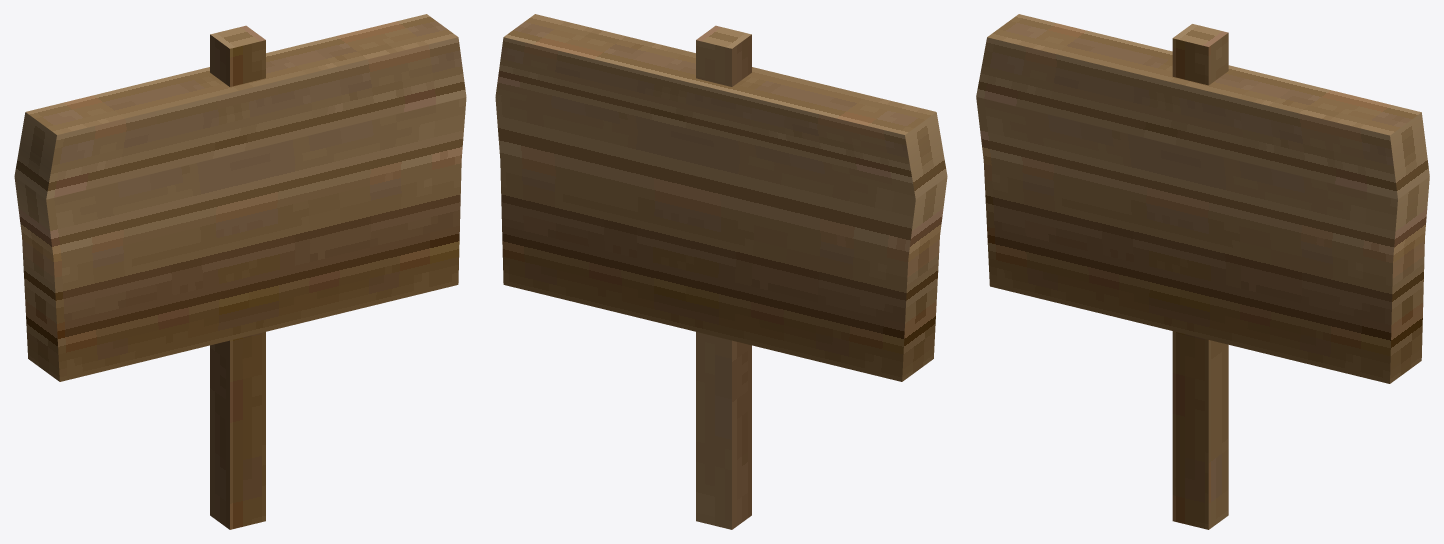
Rendered from com_bm_murekanban.obj.
3 renders of one model, left to right at view 1: azimuth 30°, elevation 25°; view 2: azimuth 150°, elevation 25°; view 3: azimuth 330°, elevation 25°, orthographic.
Visible parts, largest first — view 1: vsn_mesh_0_com_bm_murekanban_mesh_0_com_bm_murekanban; view 2: vsn_mesh_0_com_bm_murekanban_mesh_0_com_bm_murekanban; view 3: vsn_mesh_0_com_bm_murekanban_mesh_0_com_bm_murekanban.
Part boxes in pixels (x1,y1,x2,y2): vsn_mesh_0_com_bm_murekanban_mesh_0_com_bm_murekanban: [14, 14, 466, 529]; vsn_mesh_0_com_bm_murekanban_mesh_0_com_bm_murekanban: [495, 14, 947, 529]; vsn_mesh_0_com_bm_murekanban_mesh_0_com_bm_murekanban: [976, 14, 1429, 529].
Bounding box in the file's own units: 31.11 × 34.03 × 4.07.
